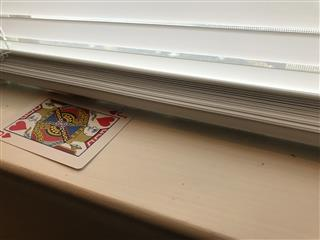JackOfHearts: (1, 93, 134, 169)
